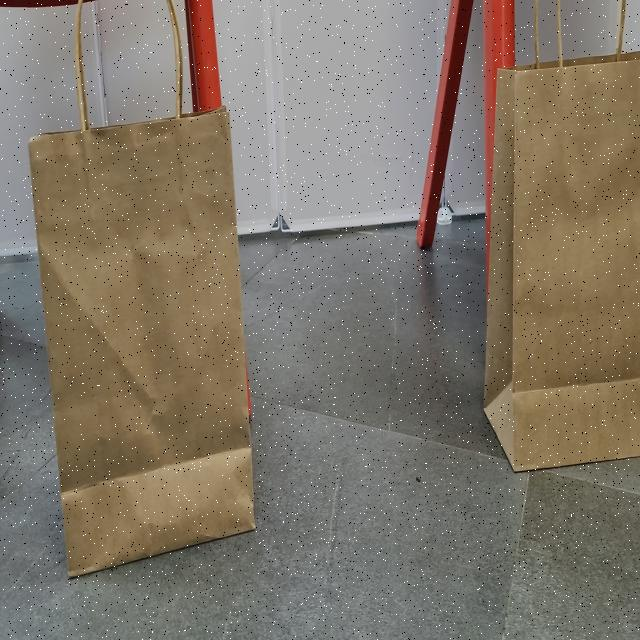paper bag: (22, 0, 262, 577), (482, 0, 640, 468)
